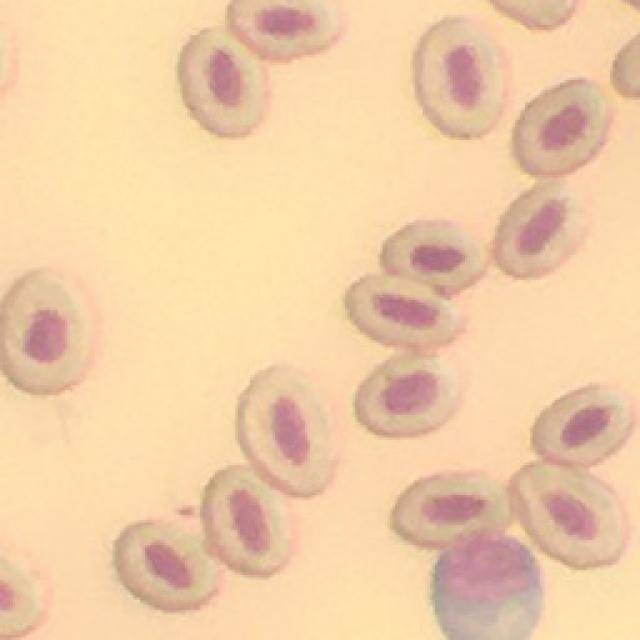RBC: (238, 365, 335, 496), (510, 462, 626, 567), (0, 270, 90, 393), (415, 18, 502, 137), (201, 466, 290, 575), (179, 29, 265, 135), (514, 80, 608, 175), (116, 522, 215, 610), (392, 474, 510, 547), (356, 354, 459, 436), (345, 275, 459, 348), (495, 181, 581, 277), (532, 386, 631, 465), (381, 221, 485, 289), (229, 0, 340, 59), (0, 562, 42, 636)
WBC: (434, 534, 541, 639)
